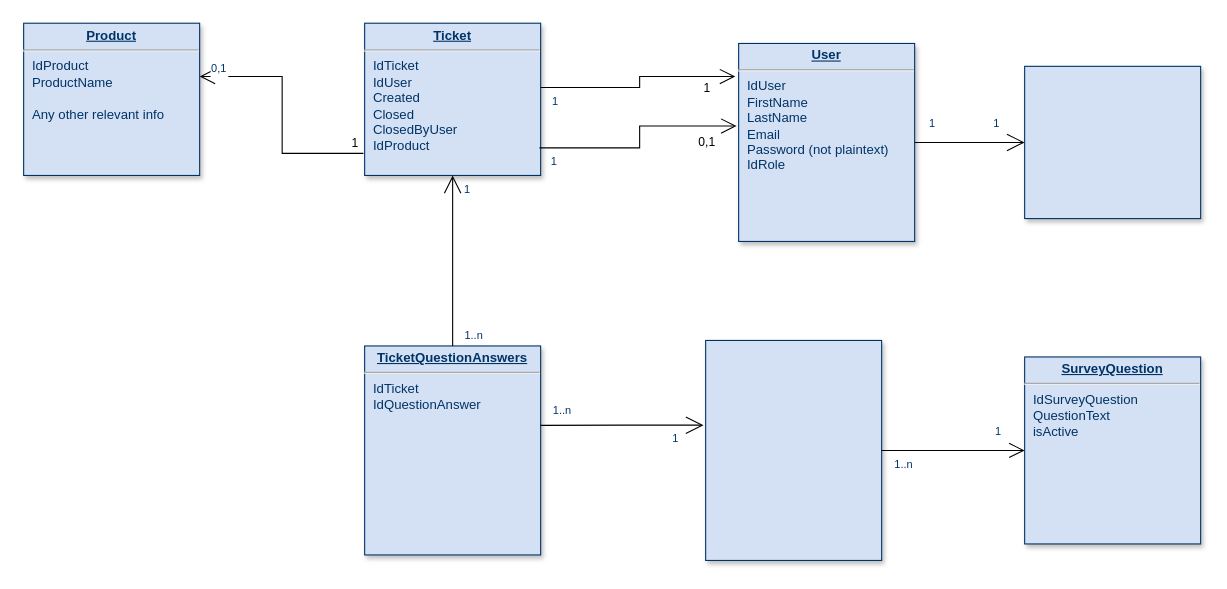
Some shapes in this 1227 by 589 pixel diagram are drawn without their labels. Each missing label, with the centre of its shape:
"QuestionAnswers IdQuestionAnswer IdQuestion AnswerText" goes at point (794, 451).
"Role IdRole RoleName" goes at point (1113, 143).
